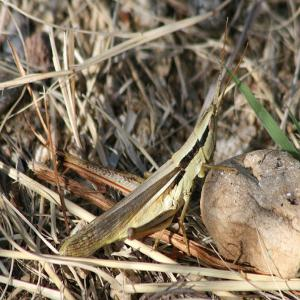locust: (58, 51, 236, 268)
